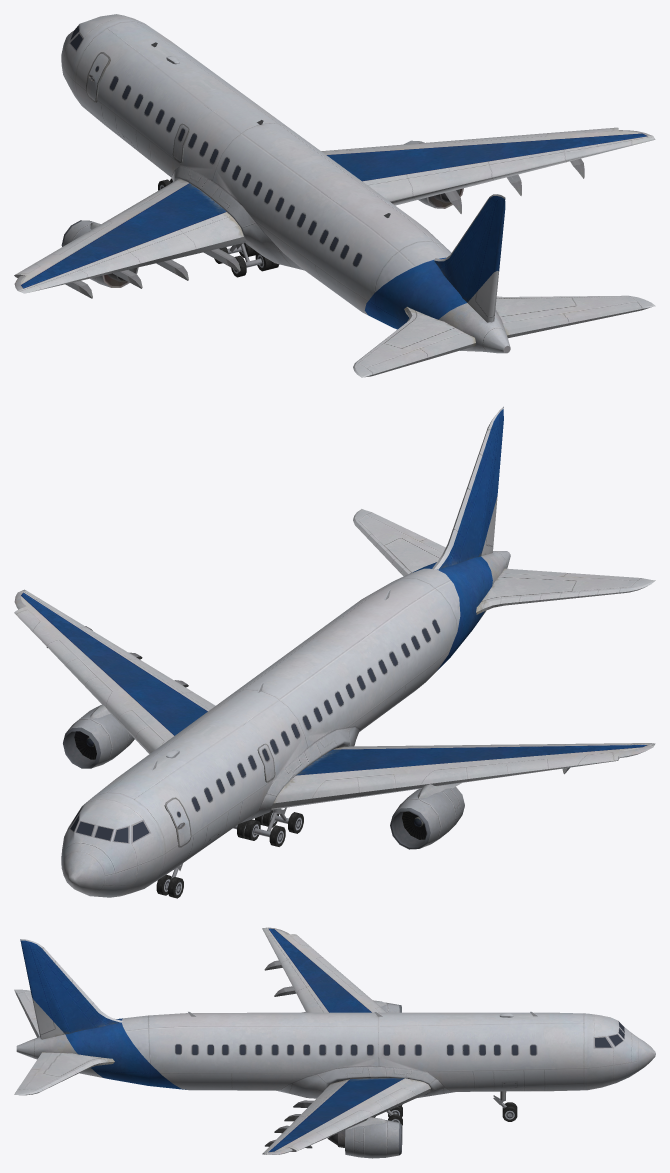
Rendered from Airplane_Large_Passenger_With_Wheels.glb.
3 renders of one model, top to bottom at view 1: azimuth 30°, elevation 25°; view 2: azimuth 150°, elevation 25°; view 3: azimuth 270°, elevation 25°, orthographic. The views are drawn at different scales.
Parts seen in each view (by area): view 1: Airplane_Large_Passenger_With_Wheels__LOD3; view 2: Airplane_Large_Passenger_With_Wheels__LOD3; view 3: Airplane_Large_Passenger_With_Wheels__LOD3.
Part boxes in pixels (left/top/right/bottom): Airplane_Large_Passenger_With_Wheels__LOD3: left=14, top=14, right=655, bottom=377; Airplane_Large_Passenger_With_Wheels__LOD3: left=14, top=406, right=655, bottom=898; Airplane_Large_Passenger_With_Wheels__LOD3: left=14, top=927, right=655, bottom=1158.
Size of the model in its own units: 21.54 by 7.93 by 25.68.
1 material, 1 textured.
